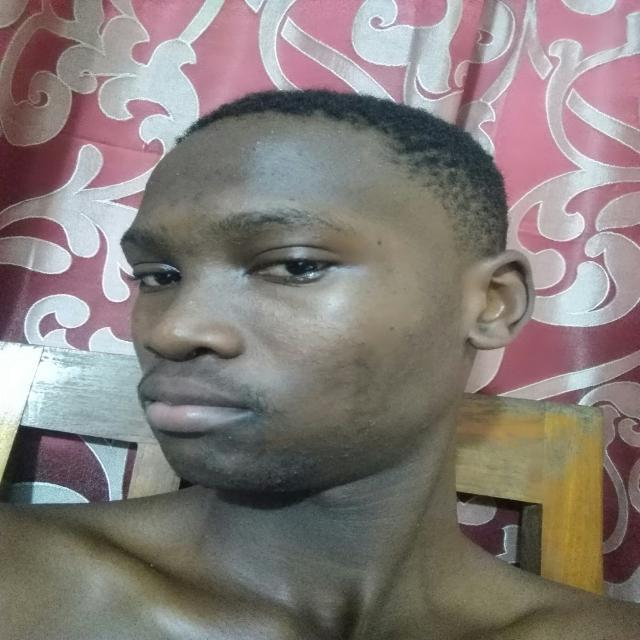Acne: (341, 322, 383, 370), (272, 450, 324, 483), (362, 232, 398, 264), (274, 187, 316, 210), (354, 414, 387, 442), (157, 190, 194, 212)
